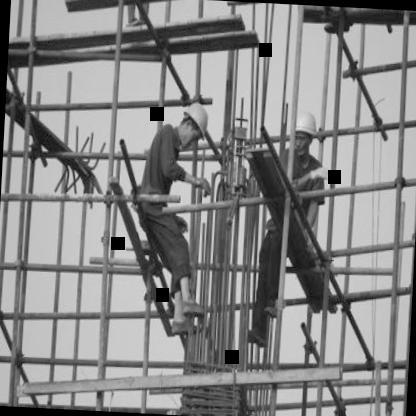helmet: (286, 104, 320, 166), (176, 97, 212, 148)
